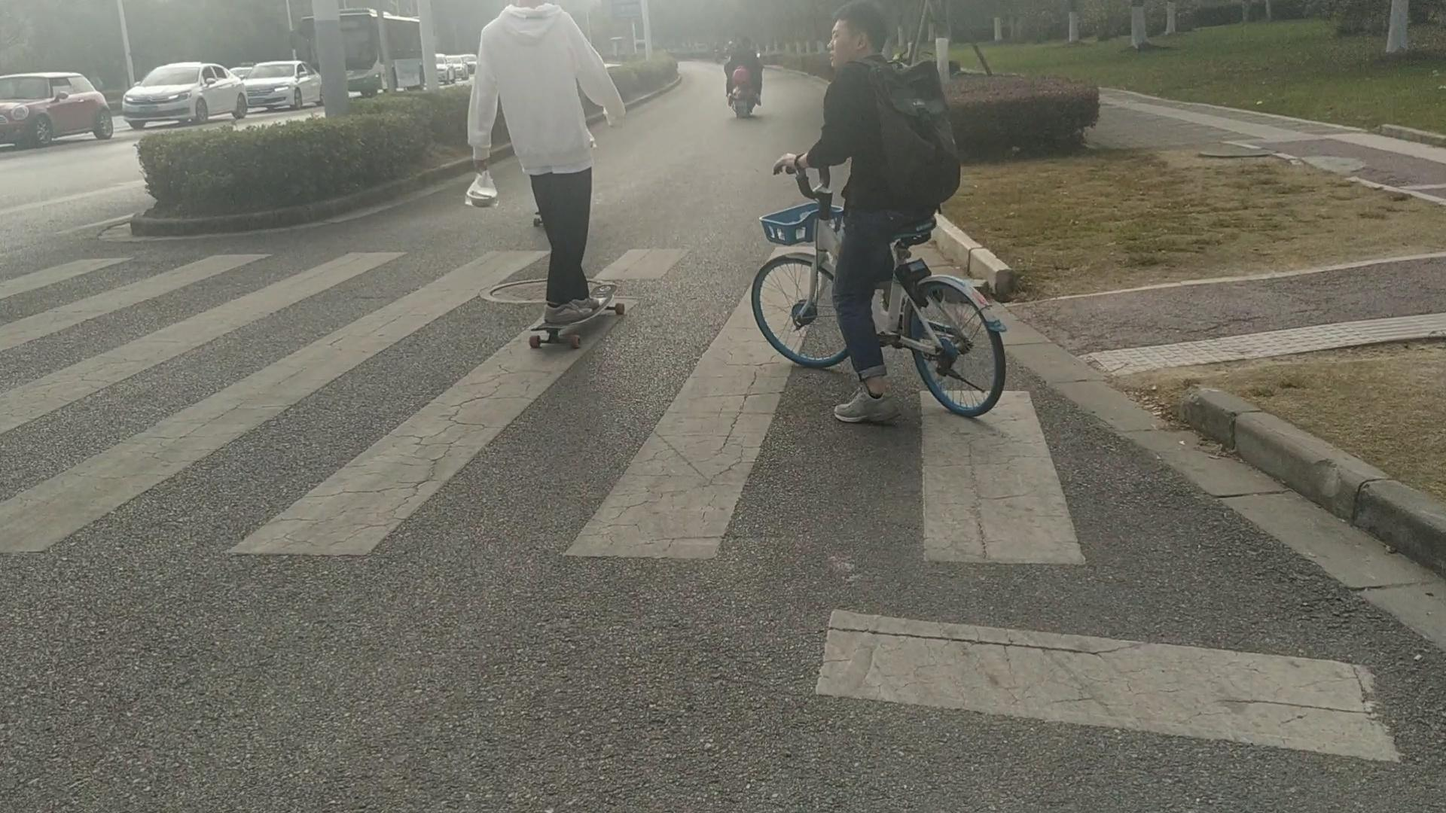car: (0, 70, 114, 148), (120, 61, 249, 129), (233, 59, 325, 113), (346, 57, 423, 97), (435, 53, 476, 85)
